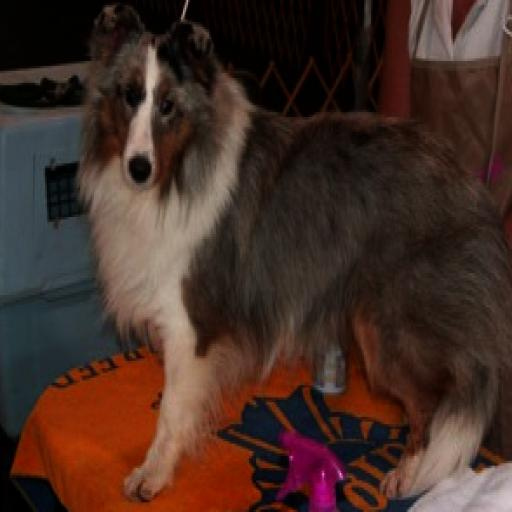dog_face: (80, 9, 213, 206)
